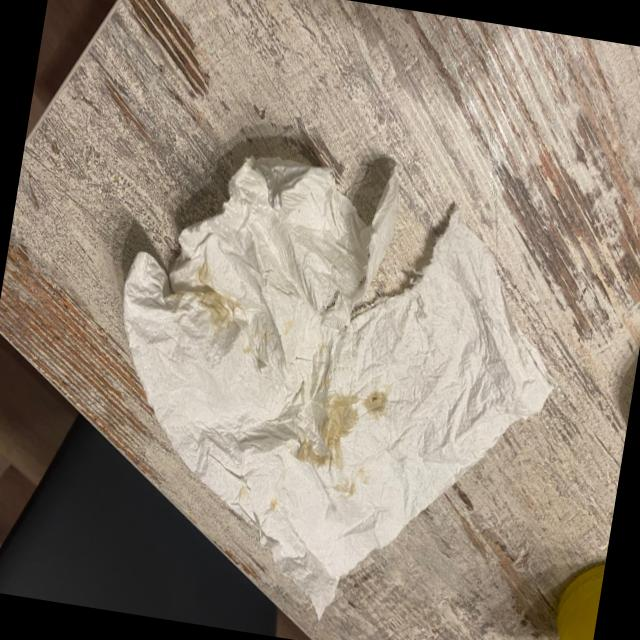organic waste: (70, 118, 591, 640)
